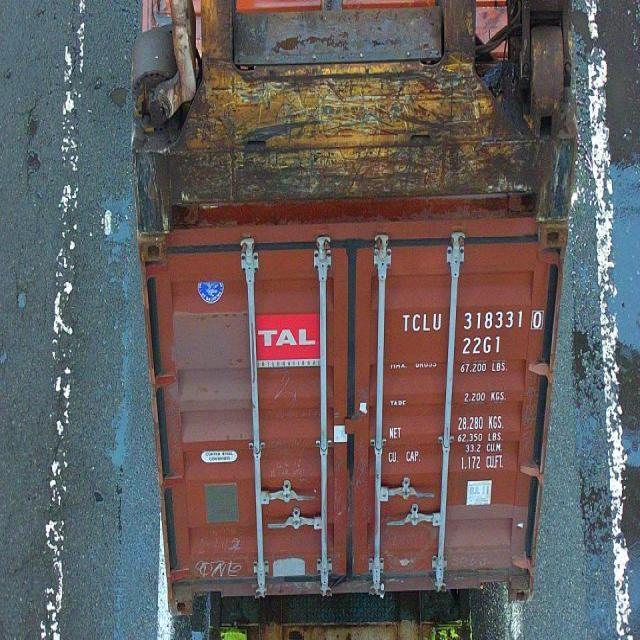ISO: (460, 335, 503, 357)
container_number: (406, 306, 546, 333)
